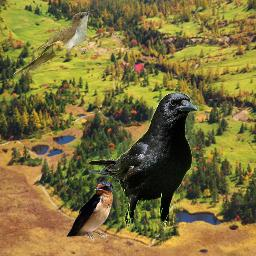Crow: (88, 91, 199, 227)
Cuckoo: (13, 10, 95, 75)
Swallow: (66, 181, 113, 242)
